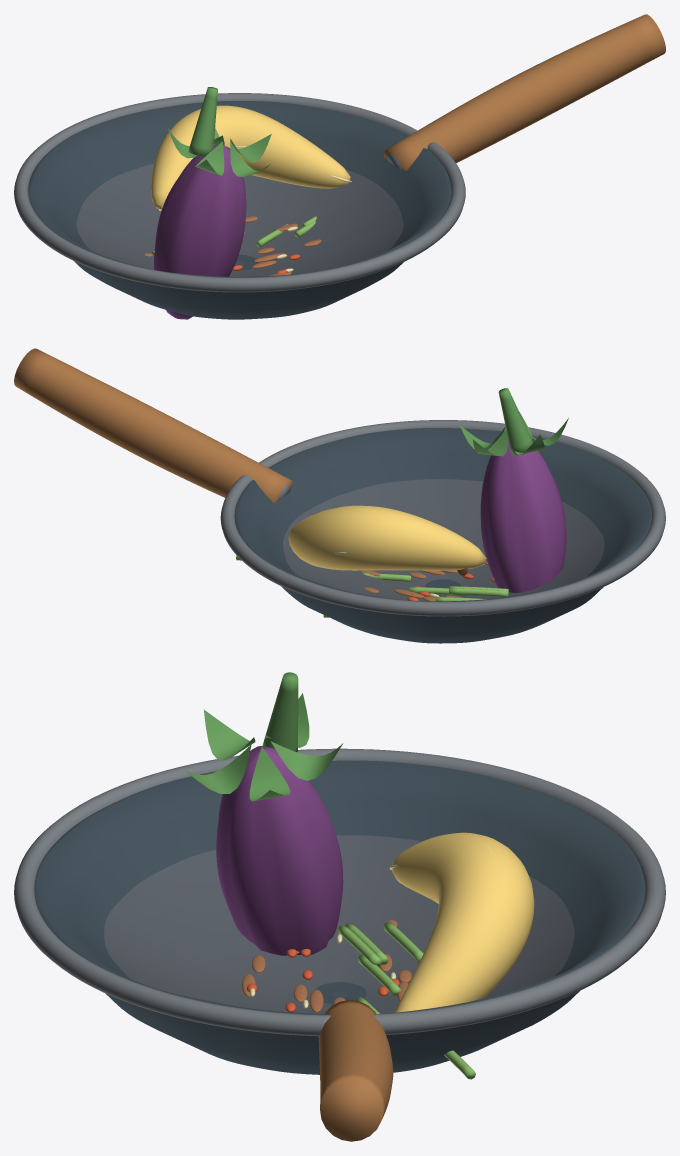
File: K01_Sculpted_Wok_Eggplant_Banana_R200.glb
3 renders of one model, top to bottom at view 1: azimuth 30°, elevation 25°; view 2: azimuth 150°, elevation 25°; view 3: azimuth 270°, elevation 25°, orthographic. The views are drawn at different scales.
Parts seen in each view (by area): view 1: K01 hand-forged curved steel wok - actual inner and outer su, K01 dark blue nonuniform inner seasoning, K01 curving long wooden handle, K01 | Cast dark steel rolled rim, Actual irregular roasted aubergine body, K01 curved ripe banana sculpt, K01 | Organic calyx forest green, K01 | Hot caramelized sauce glaze; view 2: K01 hand-forged curved steel wok - actual inner and outer su, K01 curving long wooden handle, K01 | Cast dark steel rolled rim, K01 dark blue nonuniform inner seasoning, Actual irregular roasted aubergine body, K01 curved ripe banana sculpt, K01 | Organic calyx forest green, K01 | Fried spring onion celery green, K01 | Hot caramelized sauce glaze; view 3: K01 hand-forged curved steel wok - actual inner and outer su, K01 dark blue nonuniform inner seasoning, K01 | Cast dark steel rolled rim, Actual irregular roasted aubergine body, K01 curved ripe banana sculpt, K01 curving long wooden handle, K01 | Organic calyx forest green, K01 | Fried spring onion celery green, K01 | Hot caramelized sauce glaze.
Part boxes in pixels (x1,y1,x2,y2): K01 hand-forged curved steel wok - actual inner and outer su: [28, 101, 451, 319]; K01 dark blue nonuniform inner seasoning: [76, 163, 403, 276]; K01 curving long wooden handle: [384, 14, 665, 170]; K01 | Cast dark steel rolled rim: [14, 93, 465, 292]; Actual irregular roasted aubergine body: [154, 144, 246, 319]; K01 curved ripe banana sculpt: [151, 105, 350, 209]; K01 | Organic calyx forest green: [167, 87, 271, 177]; K01 | Hot caramelized sauce glaze: [144, 216, 321, 275]; K01 hand-forged curved steel wok - actual inner and outer su: [234, 428, 651, 643]; K01 curving long wooden handle: [14, 348, 292, 502]; K01 | Cast dark steel rolled rim: [220, 420, 665, 616]; K01 dark blue nonuniform inner seasoning: [283, 479, 604, 601]; Actual irregular roasted aubergine body: [480, 439, 566, 592]; K01 curved ripe banana sculpt: [288, 505, 485, 570]; K01 | Organic calyx forest green: [460, 388, 568, 456]; K01 | Fried spring onion celery green: [236, 555, 508, 617]; K01 | Hot caramelized sauce glaze: [360, 561, 488, 601]; K01 hand-forged curved steel wok - actual inner and outer su: [34, 760, 645, 1074]; K01 dark blue nonuniform inner seasoning: [104, 835, 574, 1014]; K01 | Cast dark steel rolled rim: [14, 748, 665, 1036]; Actual irregular roasted aubergine body: [216, 746, 343, 955]; K01 curved ripe banana sculpt: [392, 832, 534, 1012]; K01 curving long wooden handle: [318, 1000, 393, 1141]; K01 | Organic calyx forest green: [184, 672, 342, 801]; K01 | Fried spring onion celery green: [338, 922, 475, 1079]; K01 | Hot caramelized sauce glaze: [242, 920, 411, 1012].
Size of the model in its own units: 3.09 by 1.08 by 1.95.
Materials: 14 (5 with a texture image).
